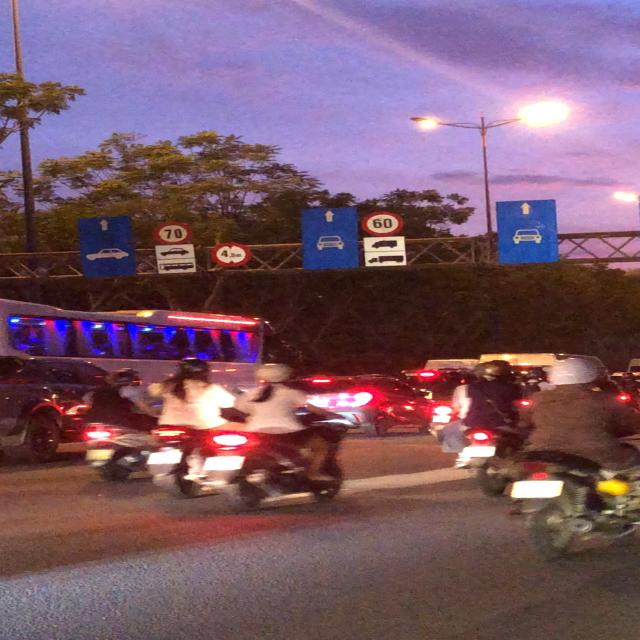Bien bao han che chieu cao: (211, 240, 259, 267)
Bien bao toc do toi da cho phep: (358, 211, 405, 237), (152, 220, 198, 246)
